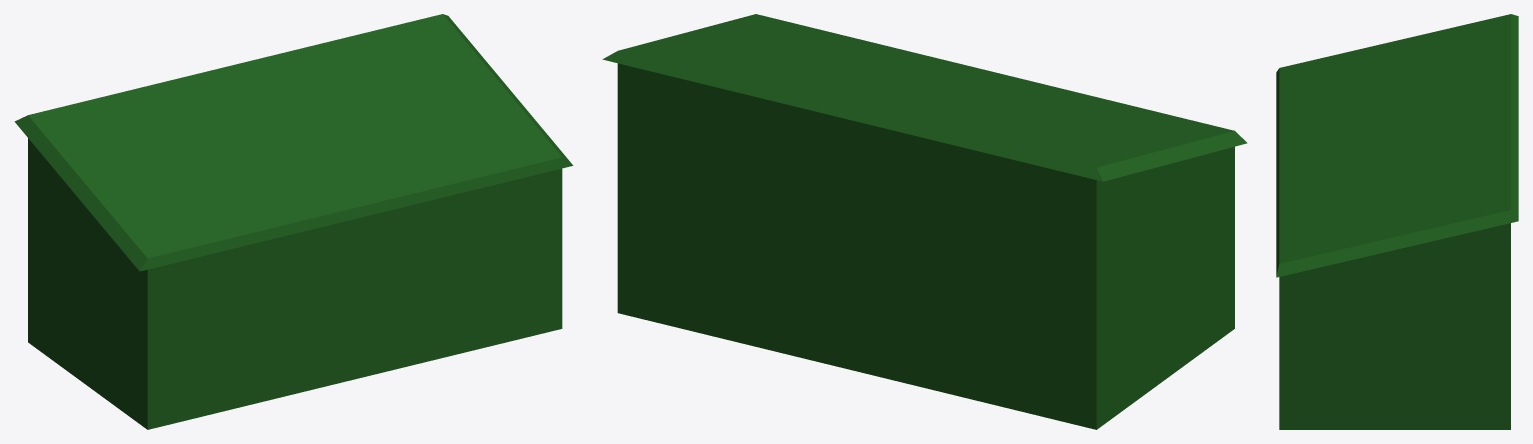
Rendered from Dumpster.fbx.
3 renders of one model, left to right at view 1: azimuth 30°, elevation 25°; view 2: azimuth 150°, elevation 25°; view 3: azimuth 270°, elevation 25°, orthographic. The views are drawn at different scales.
Parts seen in each view (by area): view 1: Dumpster_Body, Dumpstar_Lid; view 2: Dumpster_Body, Dumpstar_Lid; view 3: Dumpstar_Lid, Dumpster_Body.
Part boxes in pixels (x1,y1,x2,y2): Dumpster_Body: [28, 138, 562, 429]; Dumpstar_Lid: [14, 14, 573, 271]; Dumpster_Body: [617, 63, 1234, 429]; Dumpstar_Lid: [602, 14, 1247, 181]; Dumpstar_Lid: [1276, 14, 1518, 277]; Dumpster_Body: [1279, 223, 1510, 429].
Bounding box in the file's own units: 418 × 209 × 209.
